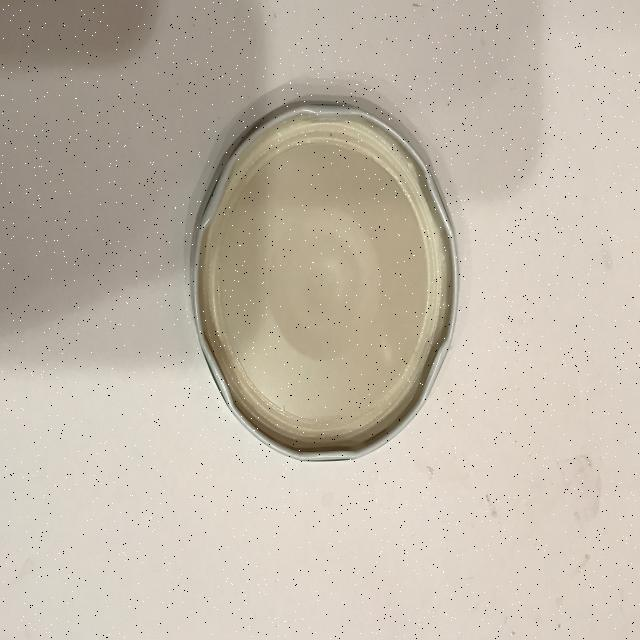metal: (188, 96, 460, 462)
